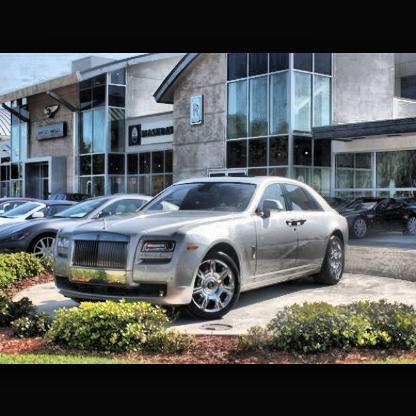Rolls-Royce Phantom Sedan 2012: (37, 170, 355, 323)
